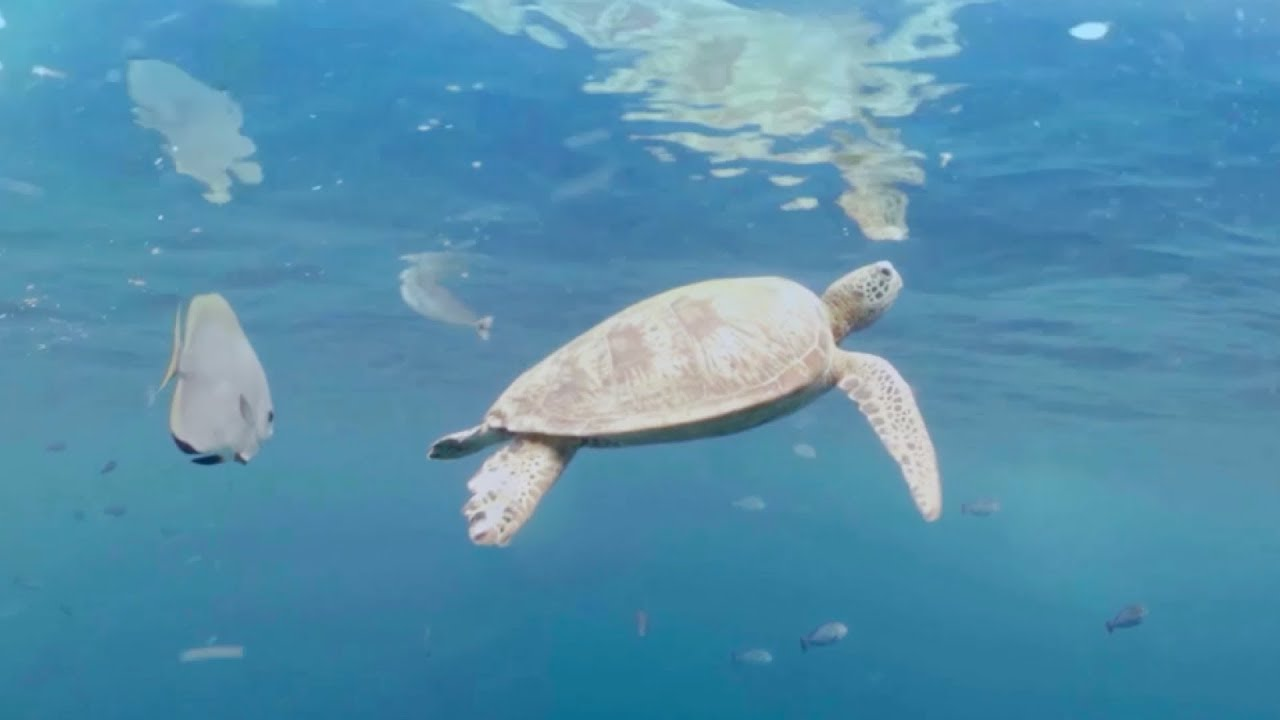trutle: (394, 219, 982, 542)
